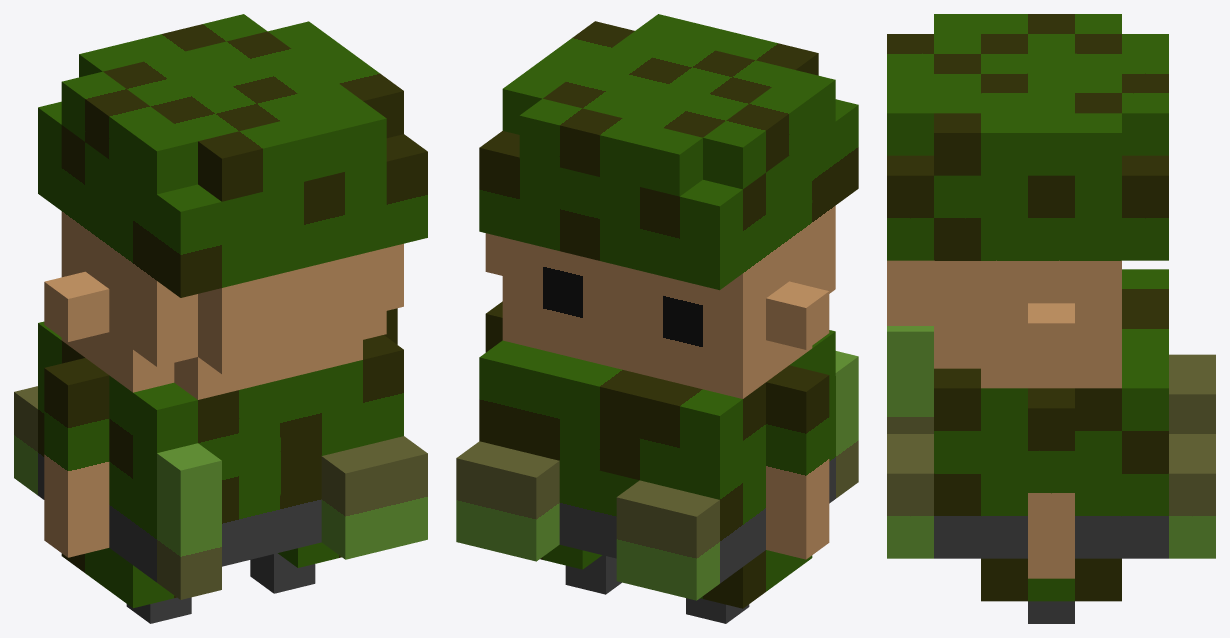
The model's file is chr_army1a.dae.
3 views of the same model, side by side, from view 1: azimuth 30°, elevation 25°; view 2: azimuth 150°, elevation 25°; view 3: azimuth 270°, elevation 25° (orthographic). The views are drawn at different scales.
Parts seen in each view (by area): view 1: chr_army1a; view 2: chr_army1a; view 3: chr_army1a.
Boxes of the visible parts, left/top/right/bottom form: chr_army1a: left=14, top=14, right=427, bottom=623; chr_army1a: left=456, top=14, right=858, bottom=623; chr_army1a: left=887, top=14, right=1215, bottom=623.
Size of the model in its own units: 0.8 by 0.7 by 1.2.
Materials: 1 (1 with a texture image).
